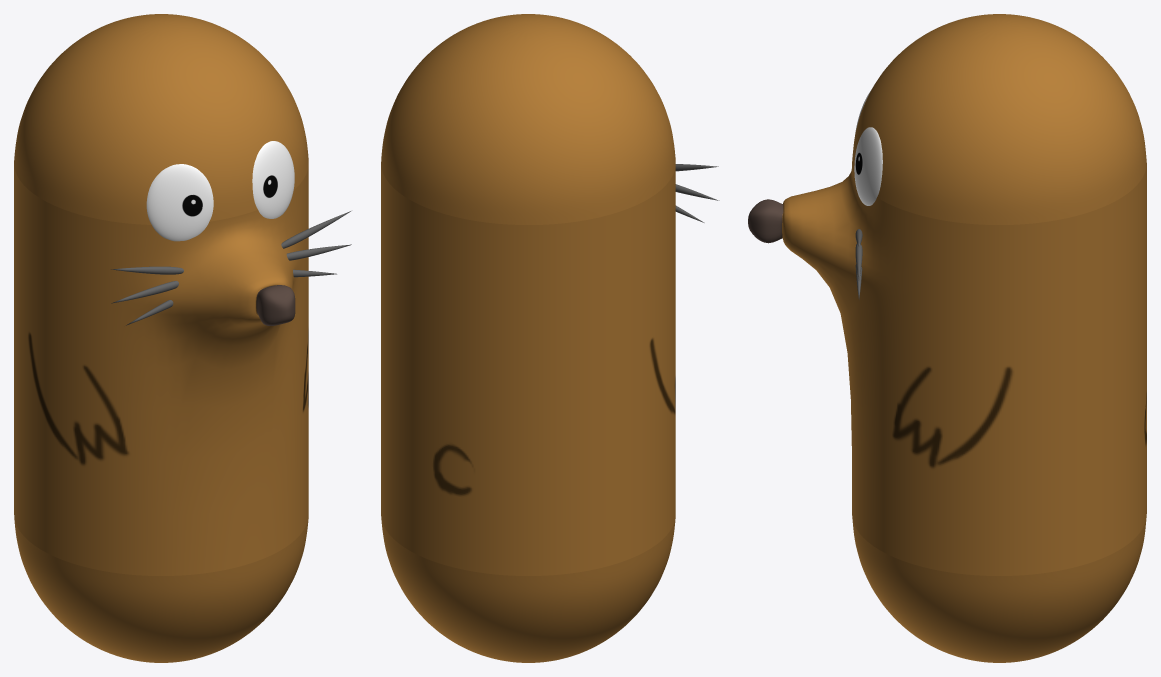
File: mogura_master02.fbx
3 views of the same model, side by side, from view 1: azimuth 30°, elevation 25°; view 2: azimuth 150°, elevation 25°; view 3: azimuth 270°, elevation 25° (orthographic).
Parts seen in each view (by area): view 1: pSphere4; view 2: pSphere4; view 3: pSphere4.
Boxes of the visible parts, box(x1,y1,x2,y2) form: pSphere4: box(14, 14, 351, 662); pSphere4: box(381, 14, 719, 662); pSphere4: box(748, 14, 1146, 662).
Bounding box in the file's own units: 19.69 × 45.88 × 26.63.
